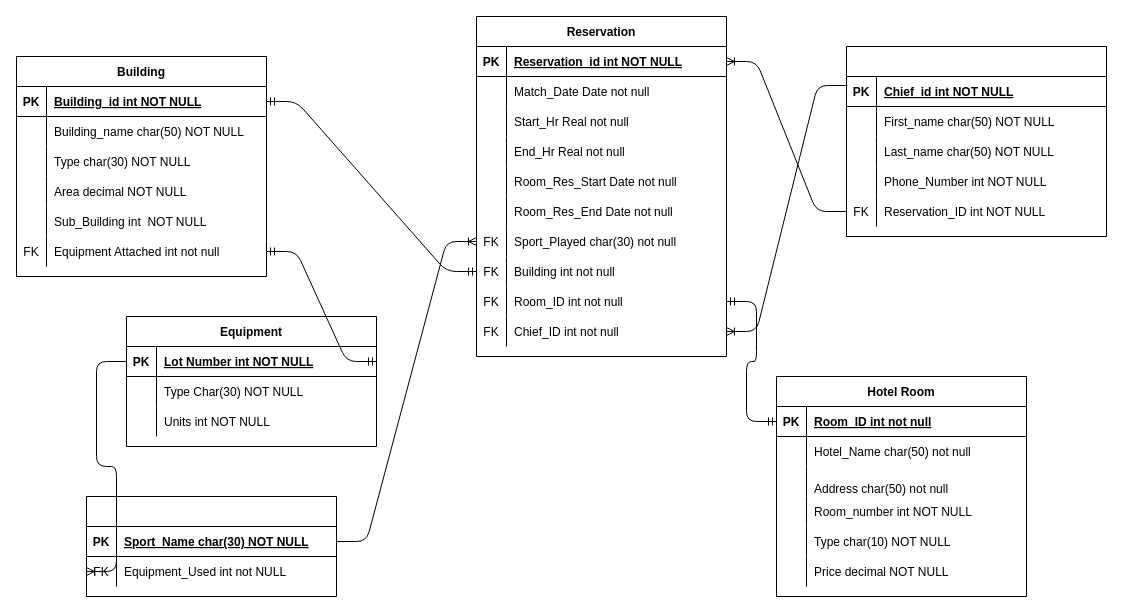
This 1123x613 diagram has some shape labels left out. The shapes that lost their labels are listed below. From the top down, each one's box as (x1, y1, x2, y2) in pixels, then its label:
(846, 46, 1106, 236): Delegation Chief
(86, 496, 336, 596): Sports
